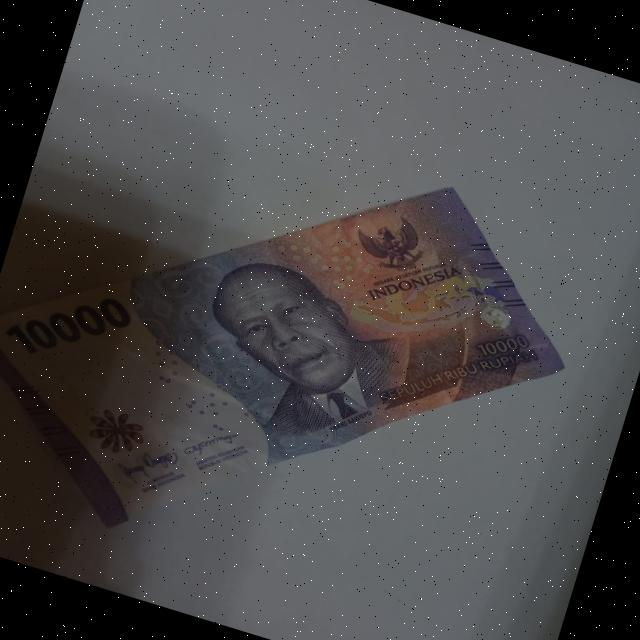10K: (0, 60, 616, 640)
